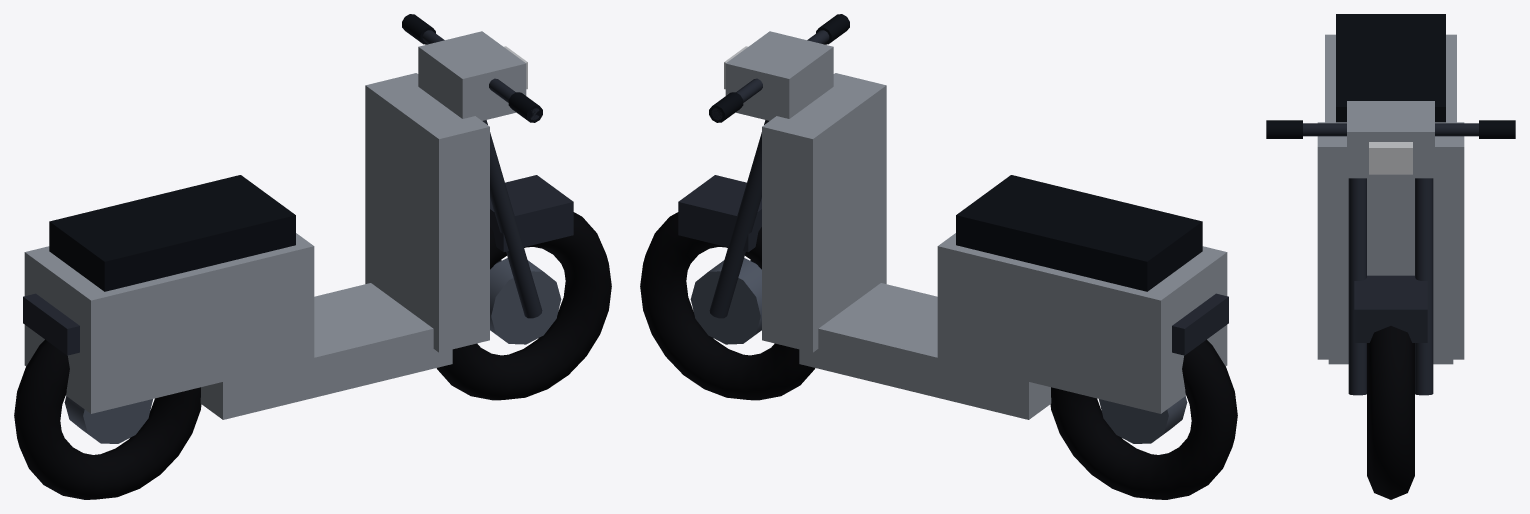
File: motorcycle.glb
3 renders of one model, left to right at view 1: azimuth 30°, elevation 25°; view 2: azimuth 150°, elevation 25°; view 3: azimuth 270°, elevation 25°, orthographic.
Parts seen in each view (by area): view 1: motorcycle; view 2: motorcycle; view 3: motorcycle.
Boxes of the visible parts, x1=… form: motorcycle: x1=14, y1=14, x2=611, y2=499; motorcycle: x1=640, y1=14, x2=1237, y2=499; motorcycle: x1=1266, y1=14, x2=1515, y2=499.
Bounding box in the file's own units: 1.86 × 1.06 × 0.68.
